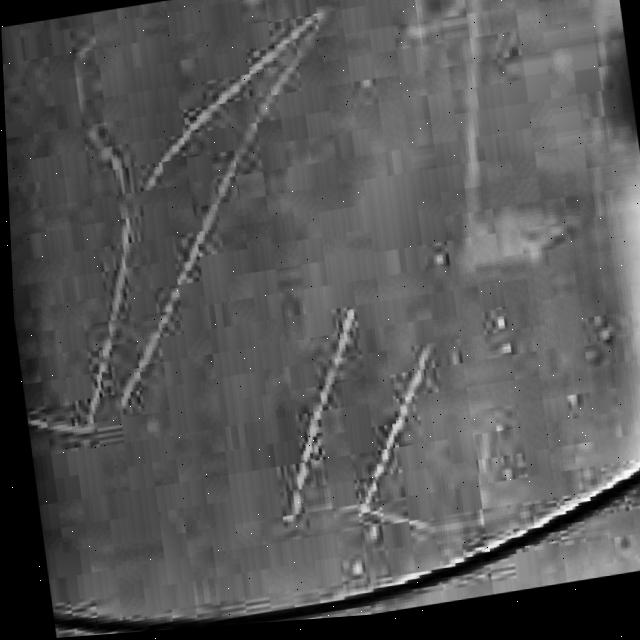door_scratch: (260, 286, 490, 590), (7, 146, 211, 446), (193, 0, 351, 181)
